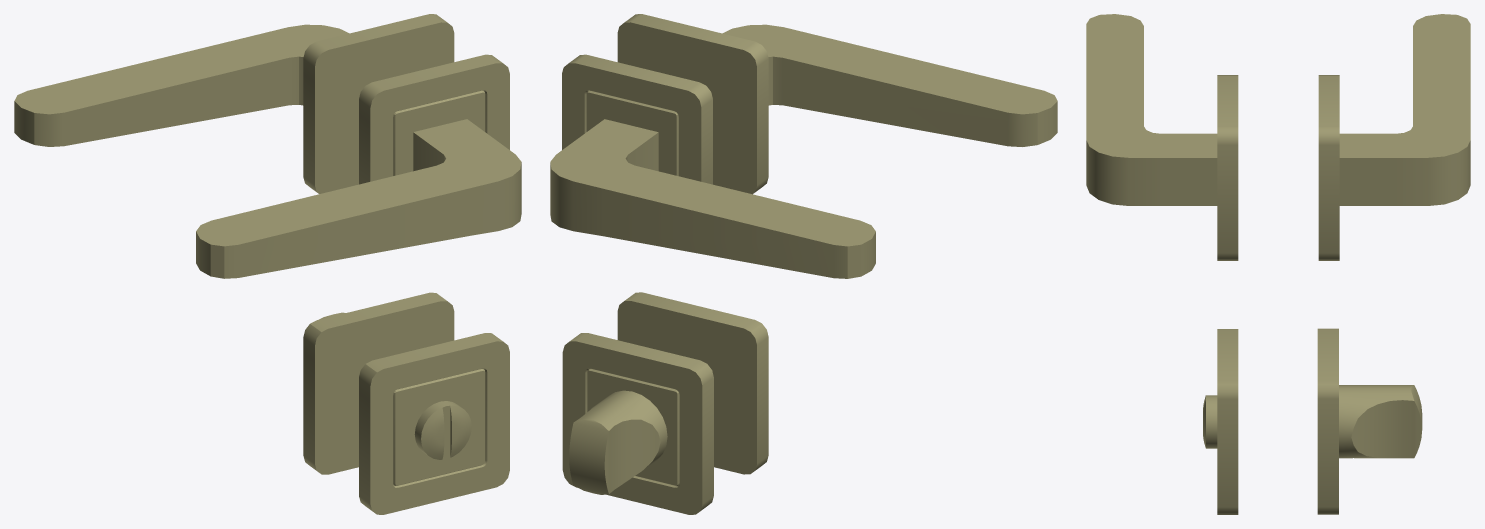
Rendered from 26_FRANKFURT_Brnak.glb.
The picture shows the model from 3 angles, left to right: view 1: azimuth 30°, elevation 25°; view 2: azimuth 150°, elevation 25°; view 3: azimuth 270°, elevation 25°; orthographic projection. The views are drawn at different scales.
Visible parts, largest first — view 1: 26_FRANKFURT_Brnak; view 2: 26_FRANKFURT_Brnak; view 3: 26_FRANKFURT_Brnak.
Boxes of the visible parts, box(x1,y1,x2,y2) form: 26_FRANKFURT_Brnak: box(14, 14, 521, 514); 26_FRANKFURT_Brnak: box(550, 14, 1057, 514); 26_FRANKFURT_Brnak: box(1086, 14, 1470, 514).
Bounding box in the file's own units: 0.1699 × 0.1882 × 0.1693.
